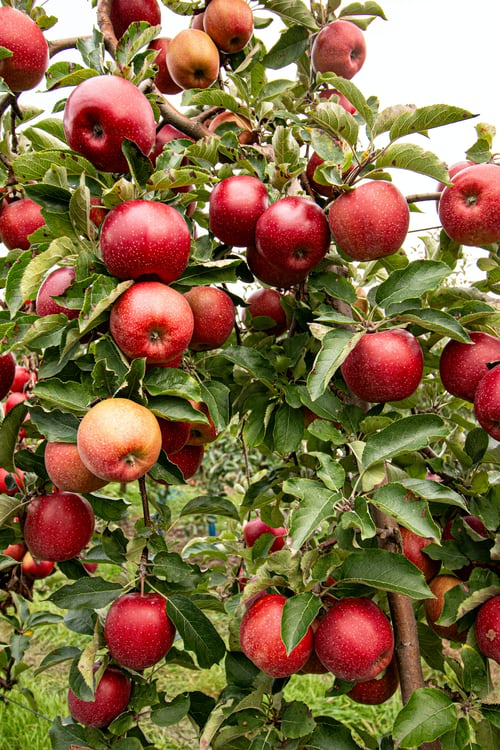apple: (64, 76, 162, 178), (92, 196, 194, 282), (313, 590, 396, 682), (334, 323, 425, 406), (94, 590, 180, 675), (108, 283, 195, 367), (234, 586, 315, 676), (79, 395, 163, 481), (20, 483, 99, 566), (330, 179, 407, 263), (254, 193, 330, 273), (438, 161, 499, 249), (63, 665, 137, 732), (438, 329, 499, 400), (4, 1, 47, 97), (178, 283, 237, 348), (312, 20, 373, 82), (169, 26, 222, 92), (204, 3, 256, 58), (240, 286, 294, 336), (475, 359, 500, 447)
